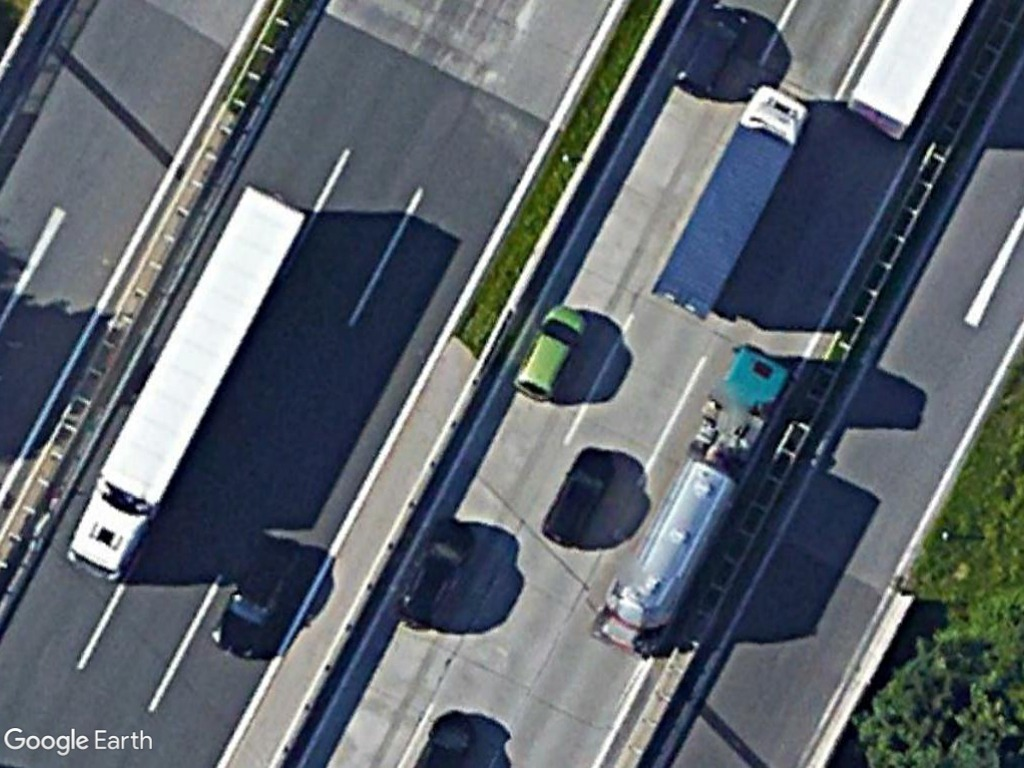car: (207, 528, 305, 665), (664, 0, 756, 105), (504, 299, 593, 404)
longvehicle: (50, 178, 319, 584)
truck: (644, 86, 816, 322)
